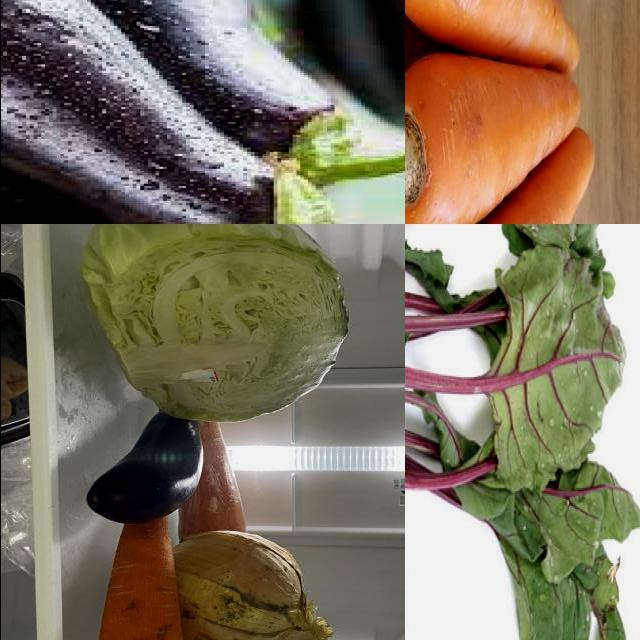cabbage: (75, 225, 356, 425)
carrot: (405, 50, 585, 225), (405, 132, 598, 225), (405, 1, 584, 73), (95, 518, 187, 640), (182, 424, 250, 551)
eggplant: (1, 1, 327, 225), (1, 1, 354, 172), (86, 414, 202, 526)
onion: (169, 529, 328, 640)
